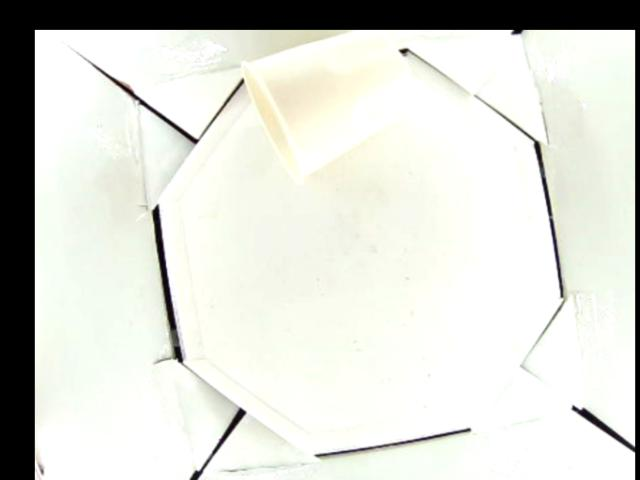Cup: (239, 30, 416, 180)
